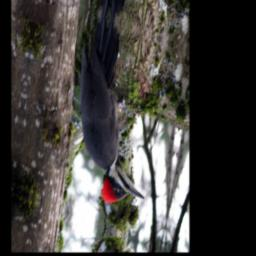Woodpecker: (60, 12, 166, 220)
